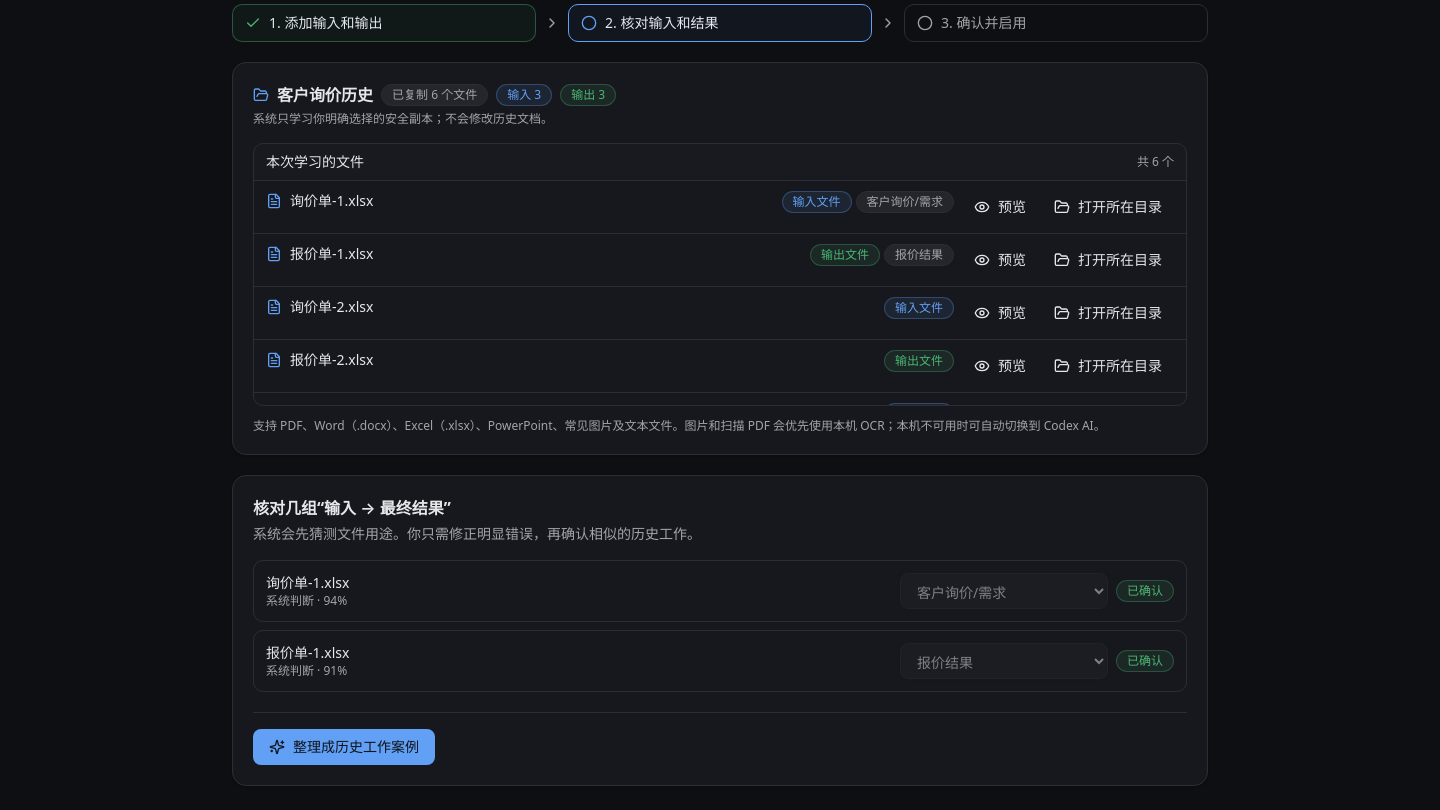
it: MyTemplateSetupWizard › explains what to do when no clear input-to-result cases are found
(page scrolled)
Click the button "整理成历史工作案例".
click(344, 747)  # box [253, 729, 435, 765]
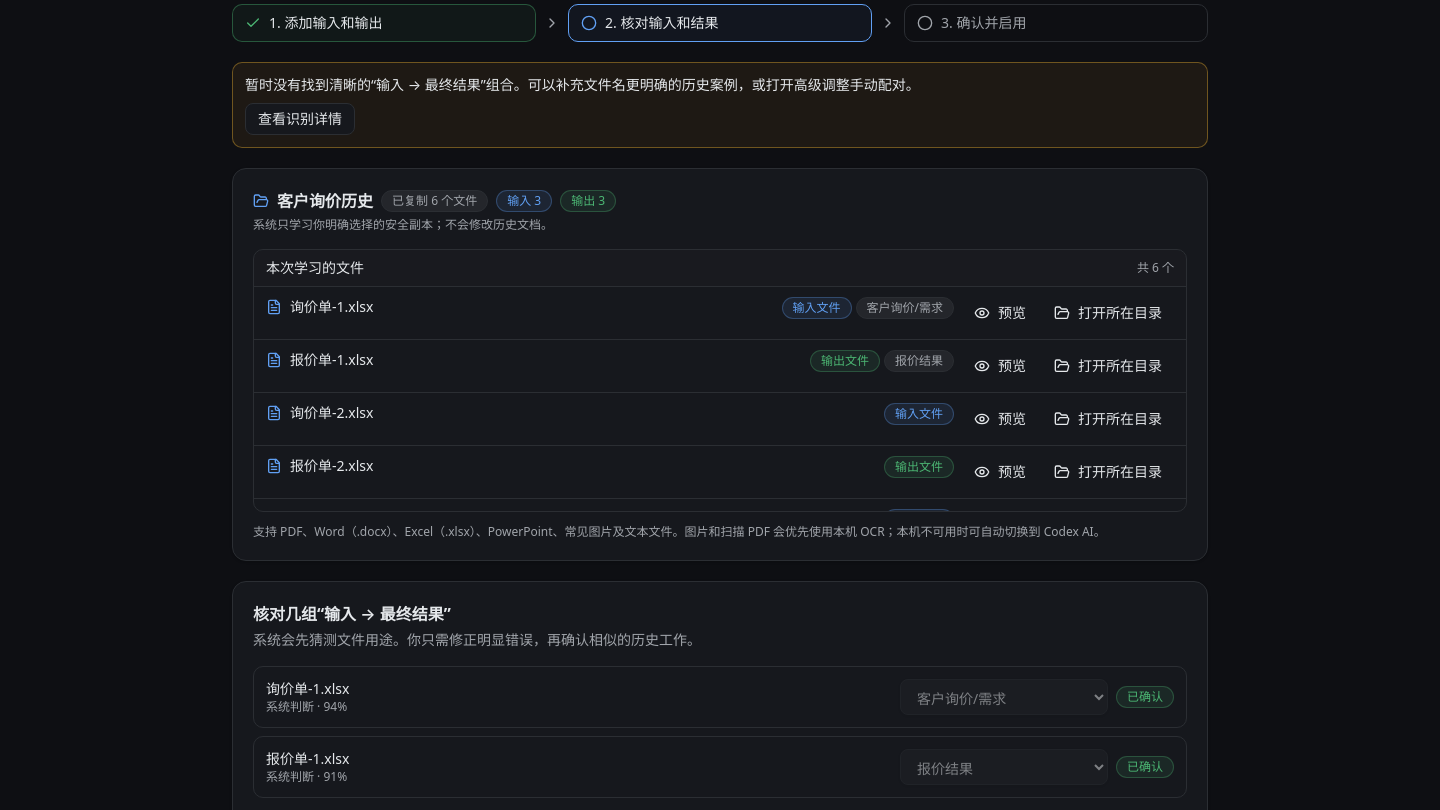
Expected: the button "查看识别详情" is shown, [245, 103, 355, 135]
